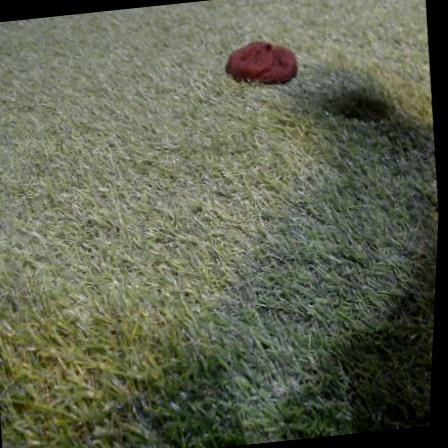dog-poop: (225, 30, 300, 89)
